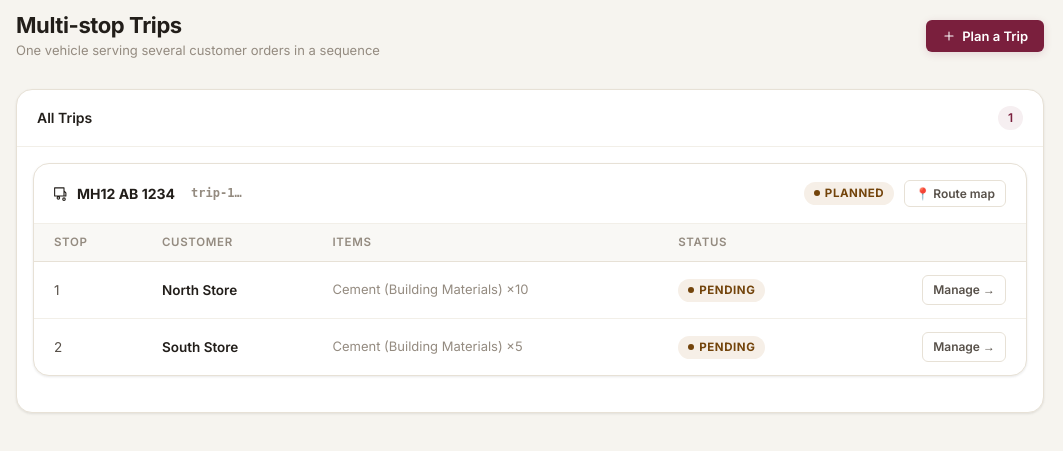
Test: Trips page › shows a fallback message when no vehicle or stop has a location on file
Expected: the text "MH12 AB 1234" is shown, [77, 185, 175, 202]
Click the button "📍 Route map" at [955, 193], box [904, 180, 1006, 207]
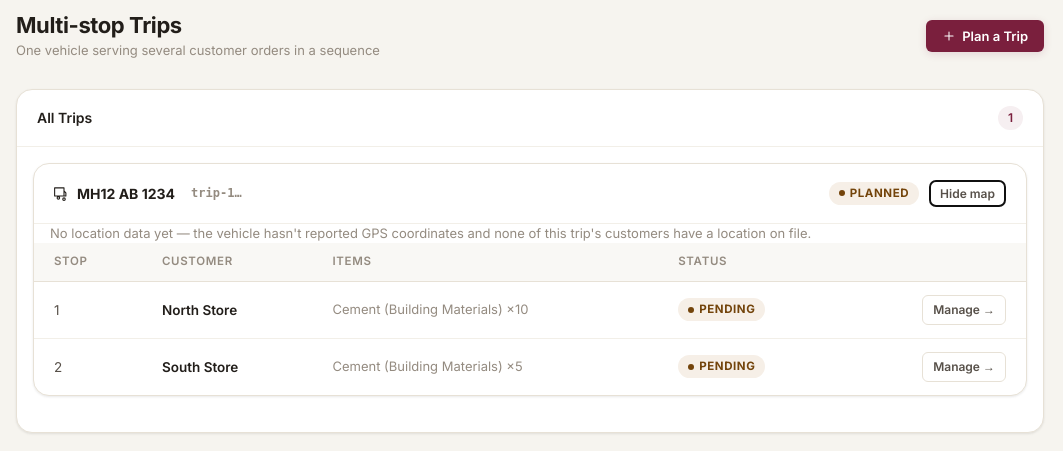
Result: the text "No location data yet" is shown at [50, 225, 811, 241]
